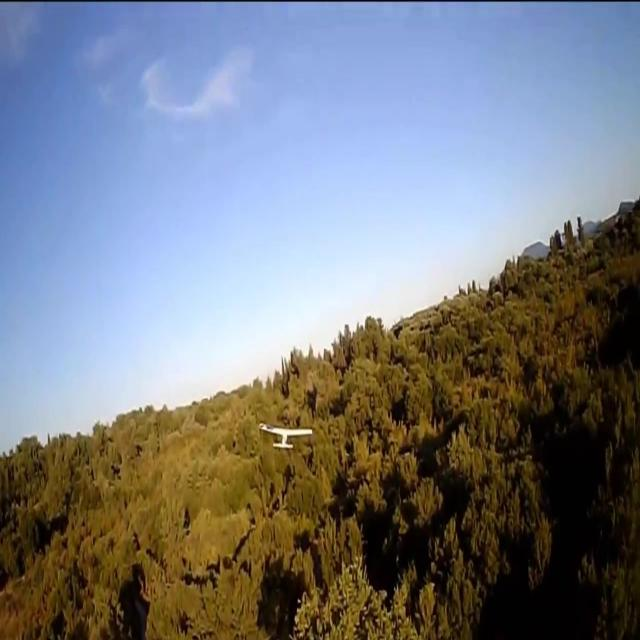iha: (259, 422, 313, 448)
